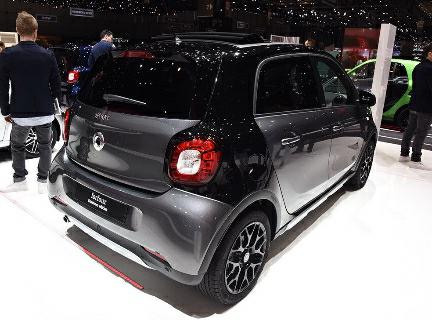smart-forfour: (37, 50, 388, 308)
